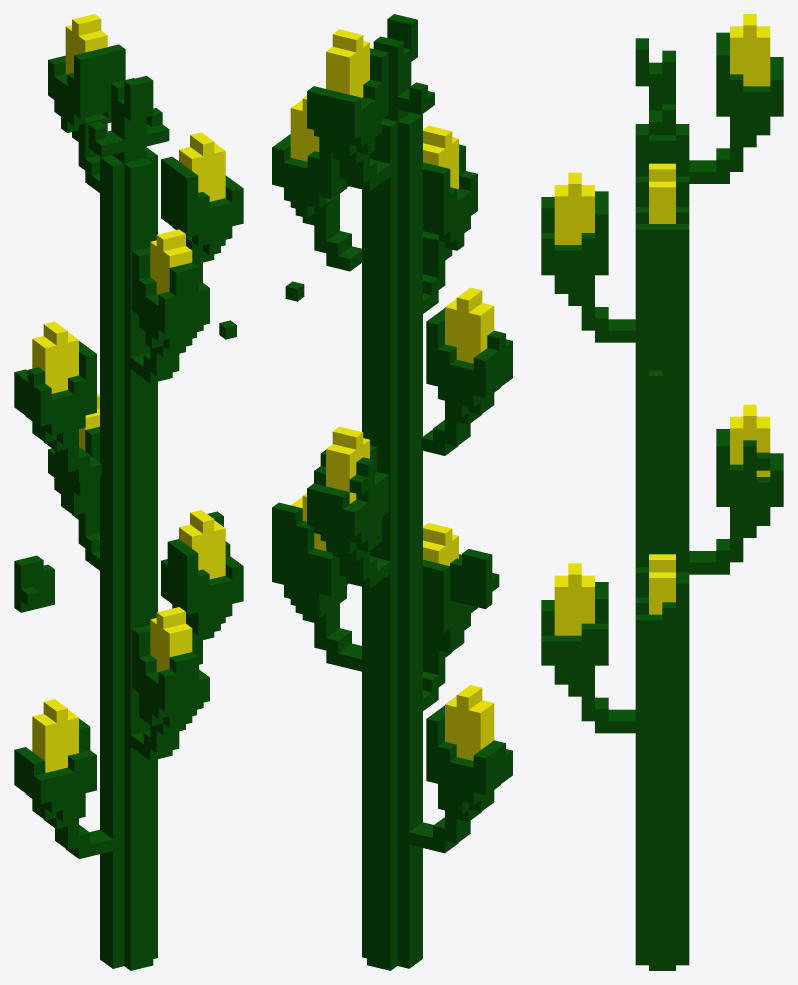
The model's file is MILHO.obj.
3 views of the same model, side by side, from view 1: azimuth 30°, elevation 25°; view 2: azimuth 150°, elevation 25°; view 3: azimuth 270°, elevation 25° (orthographic). The views are drawn at different scales.
Bounding box in the file's own units: 1.8 × 7.7 × 1.8.
1 material, 1 textured.
